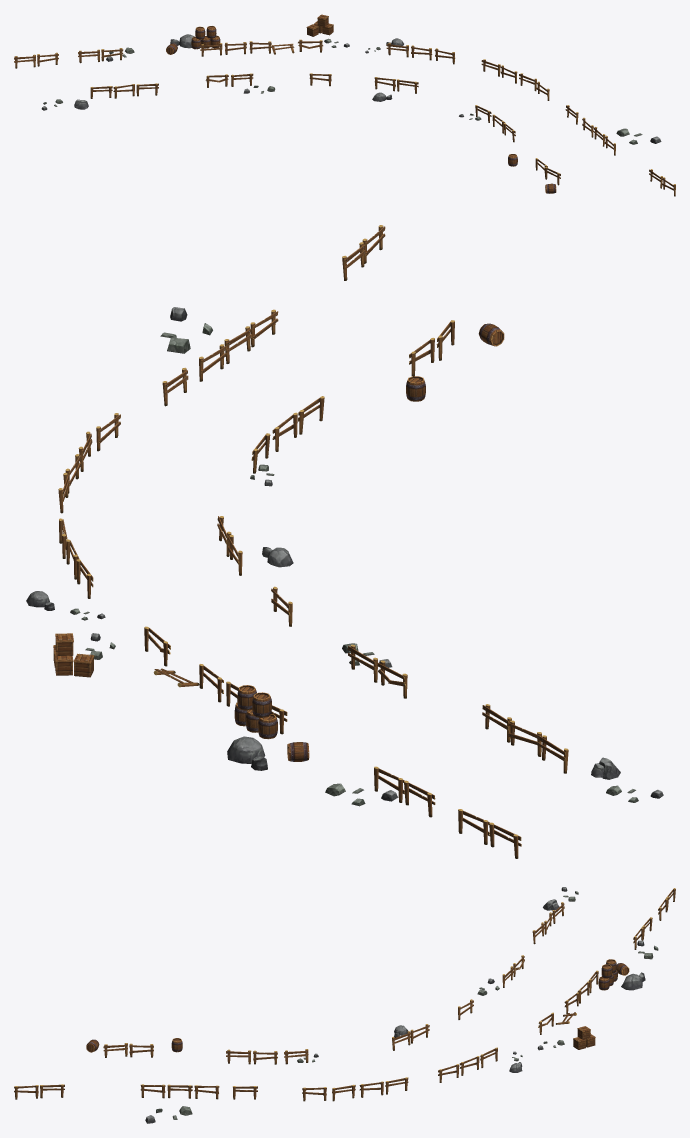
Rendered from wujian4_1.fbx.
3 renders of one model, top to bottom at view 1: azimuth 30°, elevation 25°; view 2: azimuth 150°, elevation 25°; view 3: azimuth 270°, elevation 25°, orthographic. The views are drawn at different scales.
Parts seen in each view (by area): view 1: wujian4_1; view 2: wujian4_1; view 3: wujian4_1.
Boxes of the visible parts, box(x1,y1,x2,y2) form: wujian4_1: box(14, 14, 675, 196); wujian4_1: box(26, 225, 663, 858); wujian4_1: box(14, 887, 675, 1123).
Bounding box in the file's own units: 4486 × 234 × 5350.
